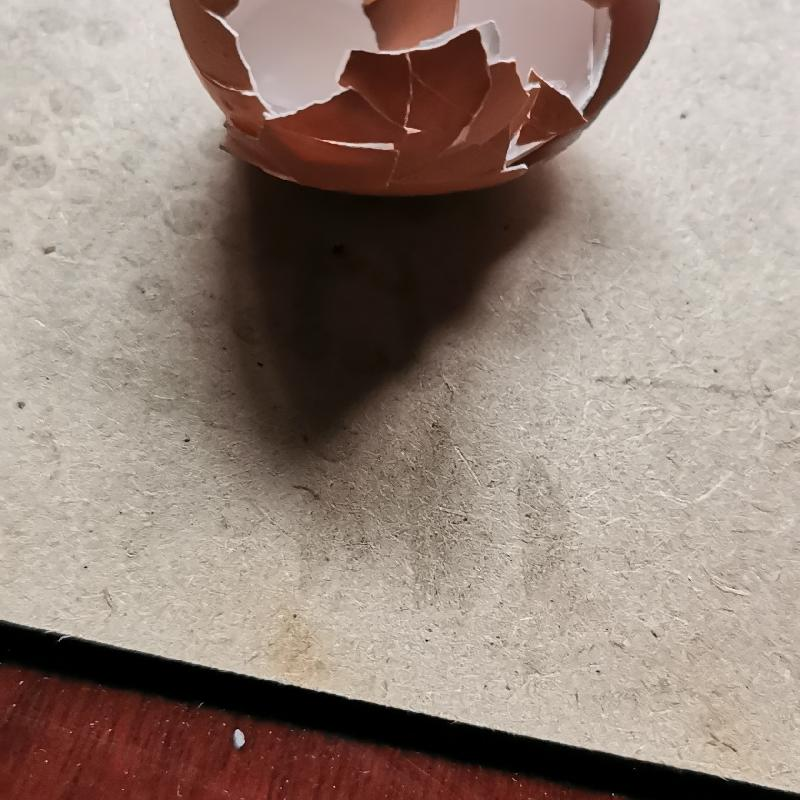eggshell: (162, 2, 662, 201)
